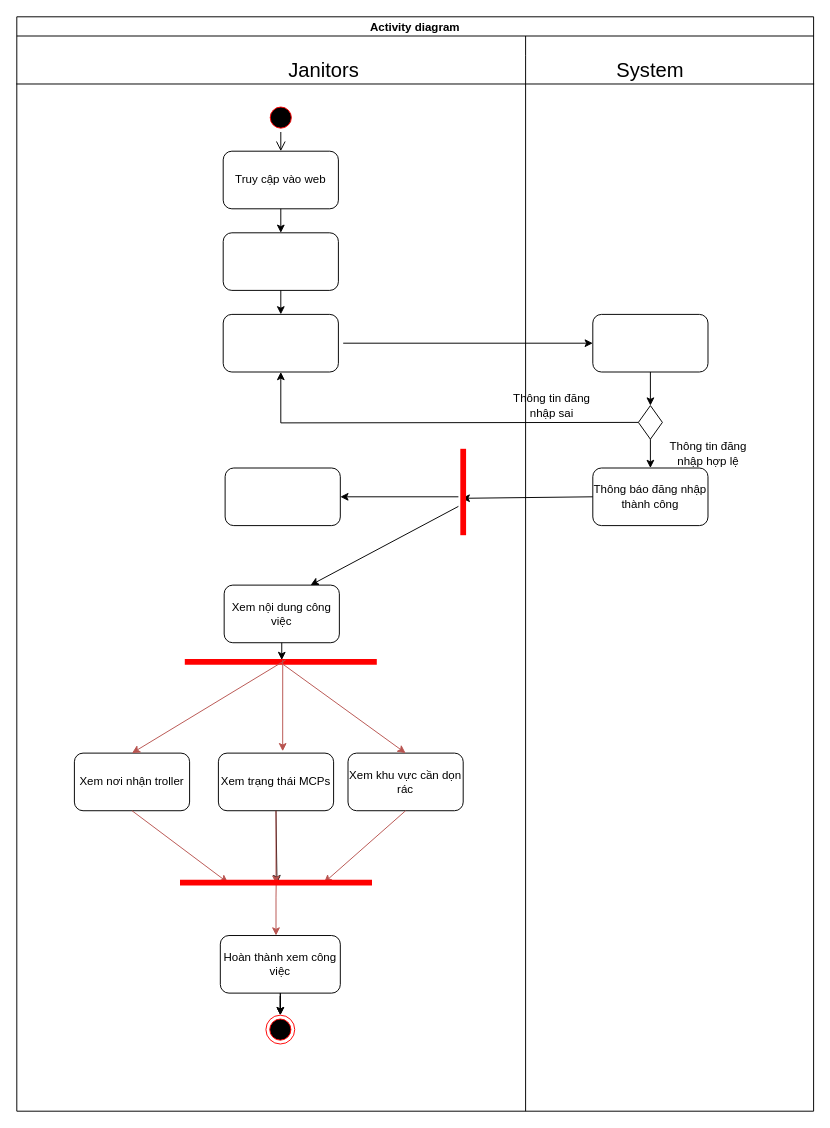
The diagram is 830 pixels wide and 1128 high, and some of its shapes have lost their labels. Each missing label, with the centre of its shape:
Chọn vai trò của mình: (x=280, y=261)
Kiểm tra thông tin: (x=650, y=342)
Xem lịch làm việc trong tuần: (x=282, y=496)
Đăng nhập tài khoản: (x=280, y=342)
